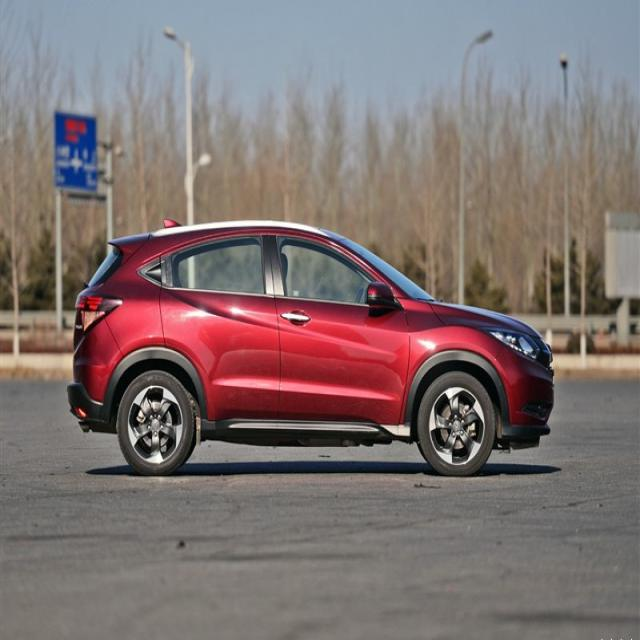back_right_side_light: (72, 289, 125, 352)
door: (156, 230, 276, 422)
front_bumper: (492, 348, 554, 440)
front_right_side_door: (266, 227, 412, 428)
front_right_side_light: (480, 326, 541, 365)
front_right_side_mirror: (366, 279, 396, 315)
rear_bumper: (66, 318, 124, 429)
wheel: (418, 372, 496, 476), (118, 371, 194, 476)
